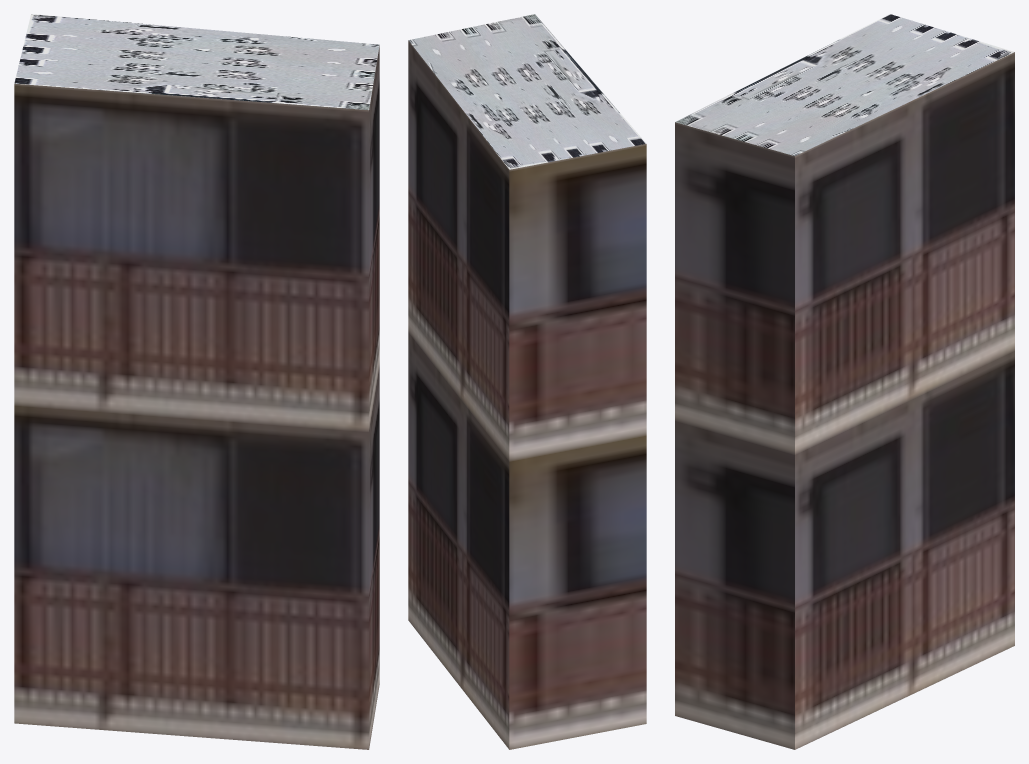
Rendered from ResTex__166.fbx.
The picture shows the model from 3 angles, left to right: view 1: azimuth 30°, elevation 25°; view 2: azimuth 150°, elevation 25°; view 3: azimuth 270°, elevation 25°; orthographic projection. The views are drawn at different scales.
Parts seen in each view (by area): view 1: CityEngineMaterial_6_m, CityEngineMaterial_m; view 2: CityEngineMaterial_6_m, CityEngineMaterial_m; view 3: CityEngineMaterial_6_m, CityEngineMaterial_m.
Boxes of the visible parts, x1,y1,x2,y2 form: CityEngineMaterial_6_m: [14, 46, 379, 749]; CityEngineMaterial_m: [14, 14, 379, 110]; CityEngineMaterial_6_m: [408, 40, 646, 749]; CityEngineMaterial_m: [408, 14, 646, 169]; CityEngineMaterial_6_m: [675, 52, 1014, 749]; CityEngineMaterial_m: [675, 14, 1014, 155].
Bounding box in the file's own units: 3.08 × 6 × 3.11.
2 materials, 2 textured.
